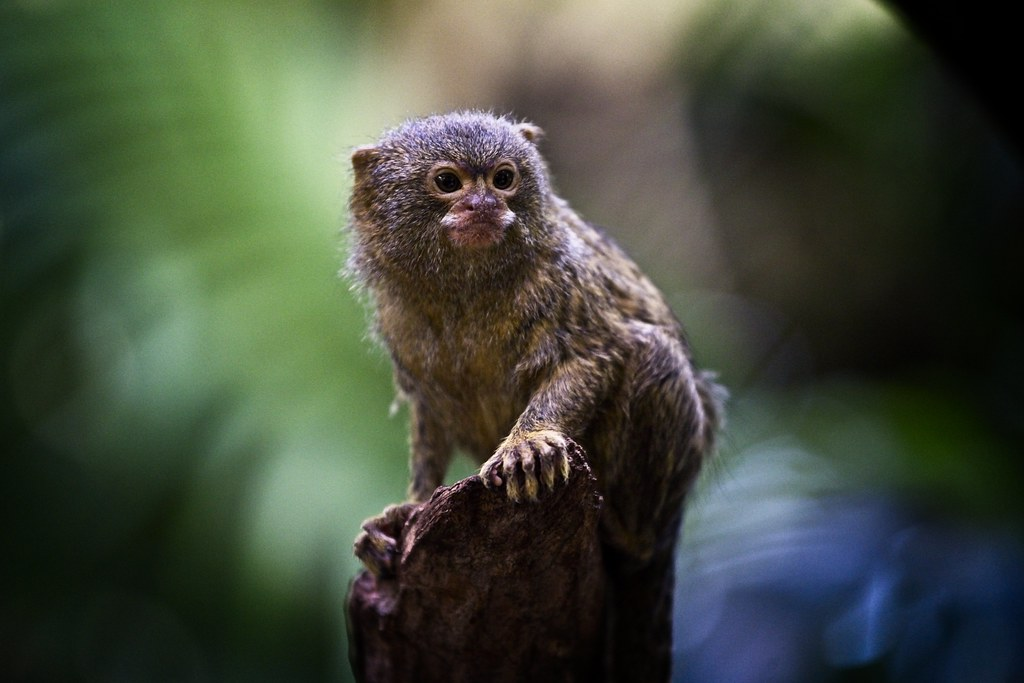PygmyMarmoset: (344, 128, 708, 498)
